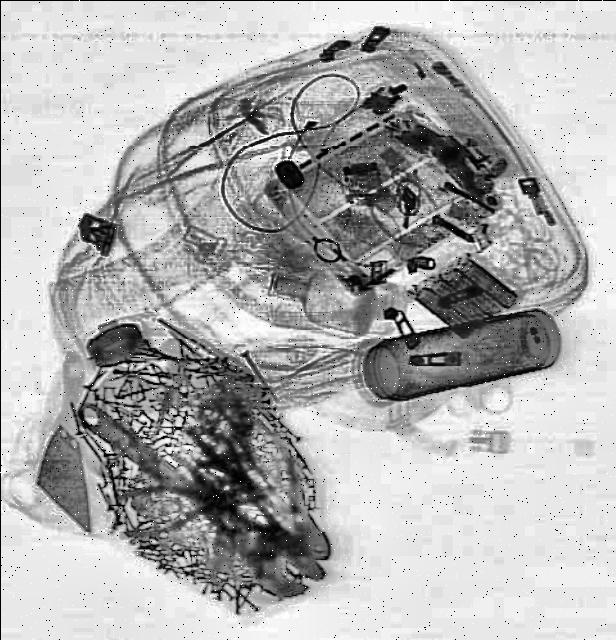Wrench: (57, 386, 329, 610)
